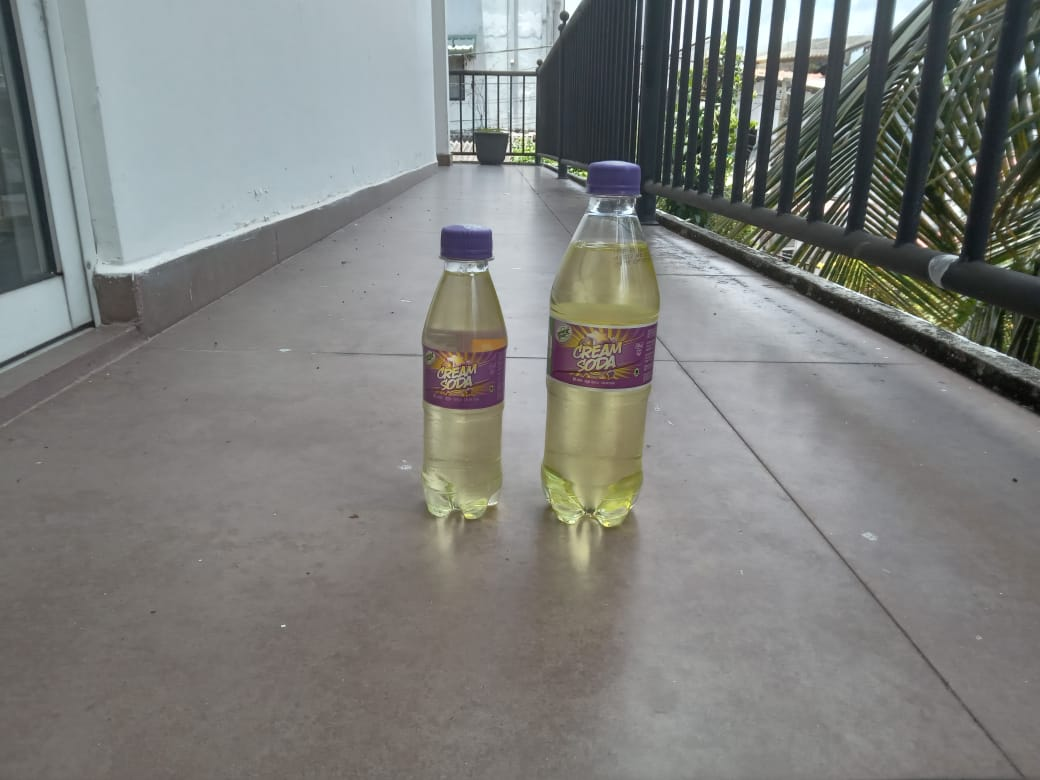S: (541, 155, 662, 534)
Xs: (418, 223, 508, 518)
